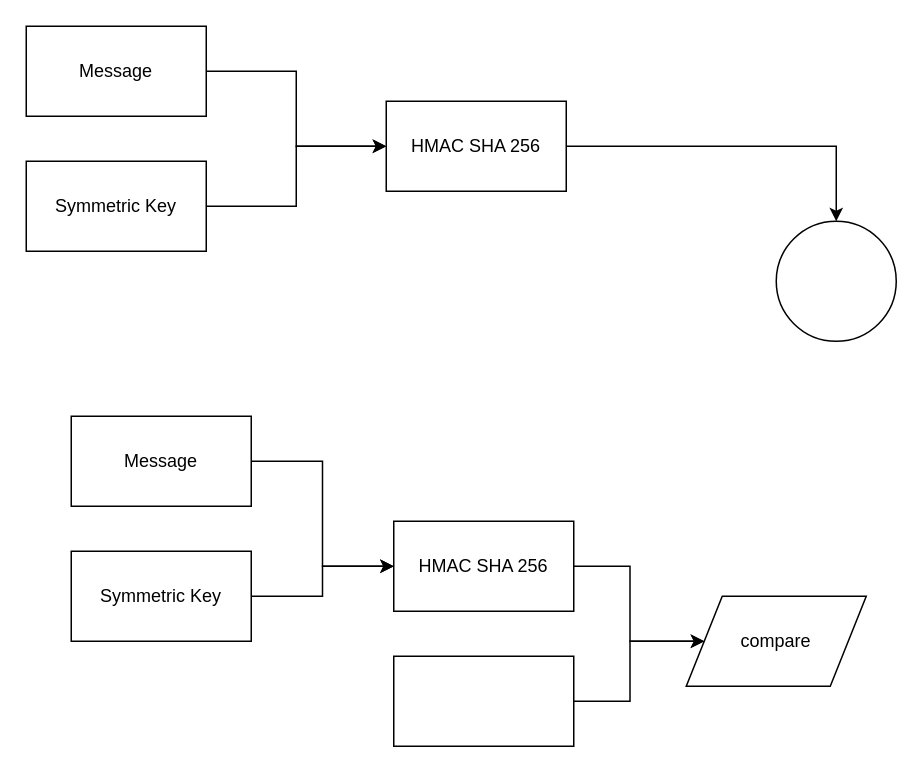
This 923x773 diagram has some shape labels left out. Here are the shapes that lost their labels. From the top down, the centre of each, then its label:
point (835, 280): To Bob
point (483, 700): Alice's HMAC Key
